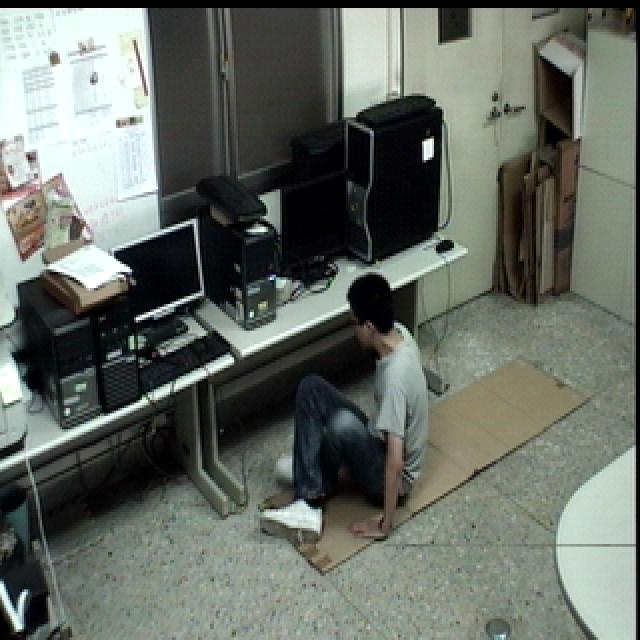sit: (261, 270, 436, 545)
